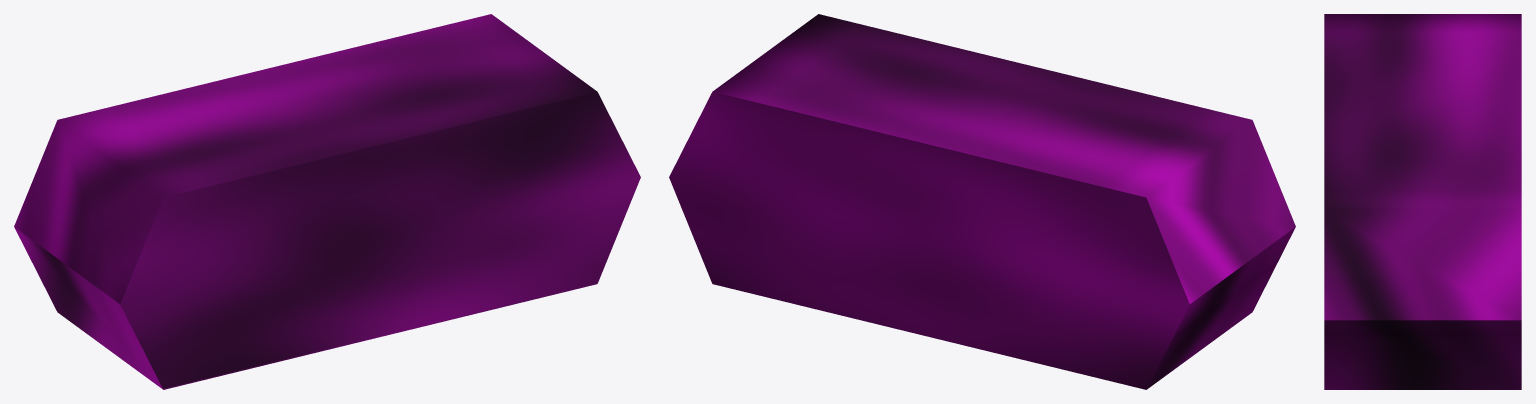
Rendered from enemy1.obj.
The picture shows the model from 3 angles, left to right: view 1: azimuth 30°, elevation 25°; view 2: azimuth 150°, elevation 25°; view 3: azimuth 270°, elevation 25°; orthographic projection. The views are drawn at different scales.
Parts seen in each view (by area): view 1: pCube1; view 2: pCube1; view 3: pCube1.
Part boxes in pixels (box(x1,y1,x2,y2)): pCube1: box(14, 14, 640, 389); pCube1: box(669, 14, 1295, 389); pCube1: box(1324, 14, 1521, 389).
Size of the model in its own units: 2.83 by 1 by 1.
1 material, 1 textured.
